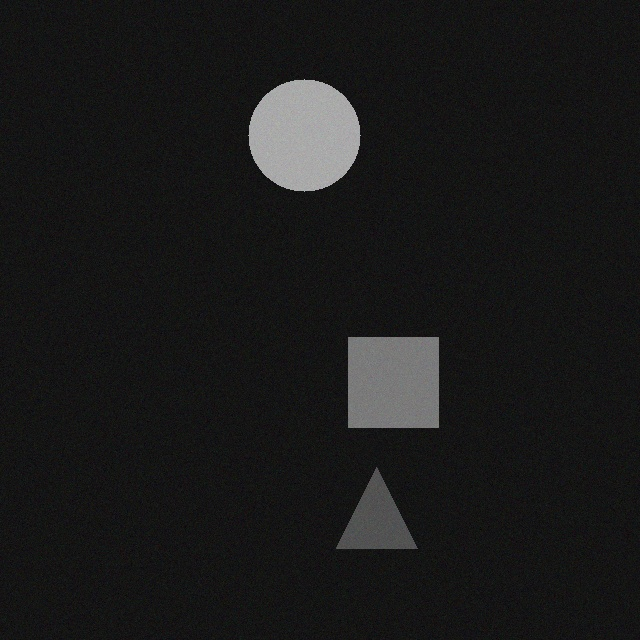circle: (255, 69, 367, 181)
square: (355, 327, 445, 417)
triangle: (343, 457, 424, 538)
